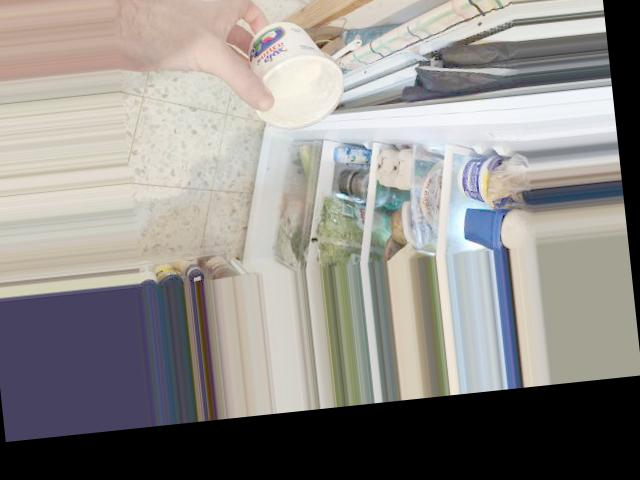cotage: (233, 12, 359, 132)
